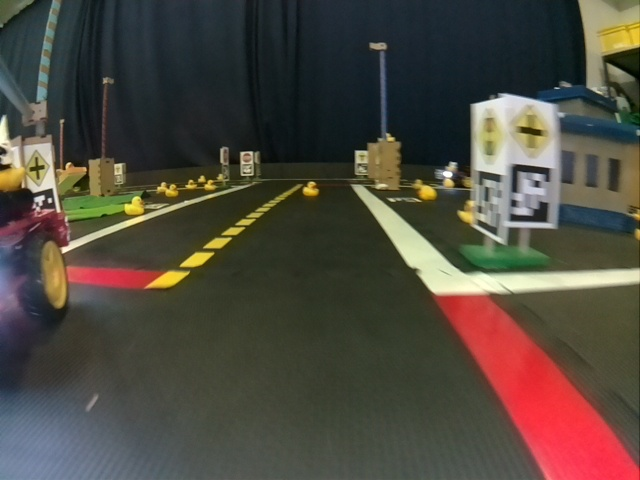Duckie: (457, 200, 474, 223), (125, 196, 144, 215), (303, 181, 319, 196), (418, 187, 434, 199), (166, 185, 178, 197), (205, 180, 215, 190), (157, 182, 167, 192), (412, 179, 422, 189), (186, 180, 196, 189), (443, 179, 453, 188)
Duckiebot: (1, 202, 68, 327)
Intersection sign: (509, 103, 552, 160), (25, 149, 52, 187)
QR code: (510, 164, 553, 226), (475, 172, 504, 235), (242, 164, 251, 175)
Signal sign: (470, 107, 504, 165)
Stop sign: (241, 152, 252, 163)
